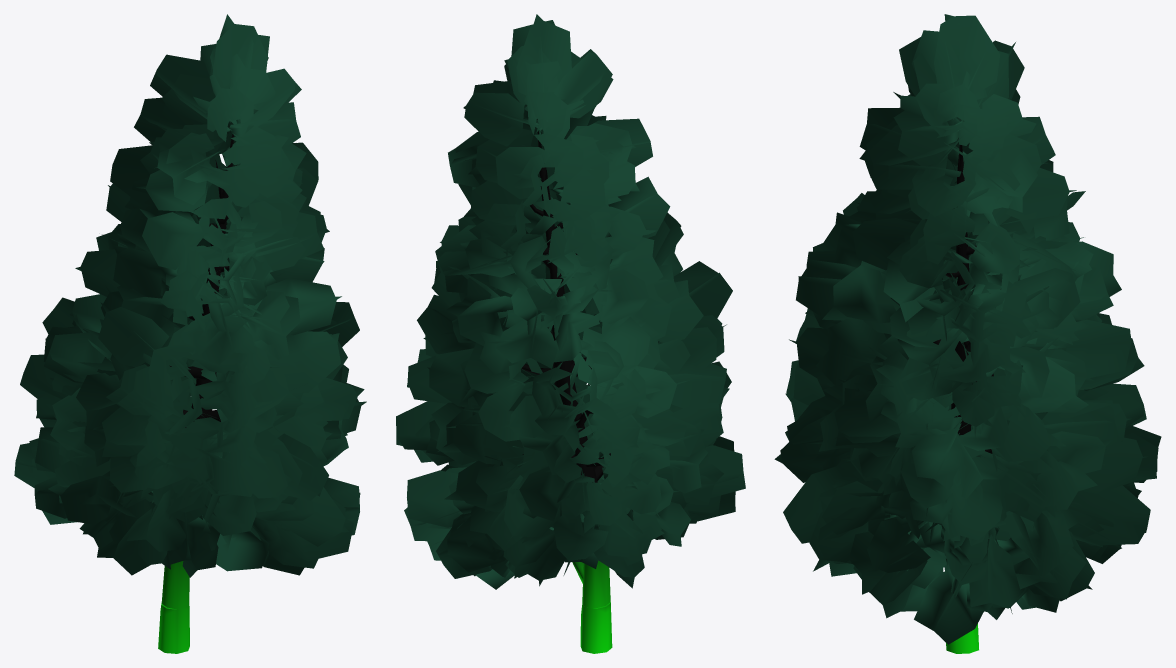
File: Tree_Snakefbx.fbx
The picture shows the model from 3 angles, left to right: view 1: azimuth 30°, elevation 25°; view 2: azimuth 150°, elevation 25°; view 3: azimuth 270°, elevation 25°; orthographic projection. The views are drawn at different scales.
Visible parts, largest first — view 1: SM_FirTree1_LOD1, SM_FirTree1_LOD1.001; view 2: SM_FirTree1_LOD1, SM_FirTree1_LOD1.001; view 3: SM_FirTree1_LOD1, SM_FirTree1_LOD1.001.
Boxes of the visible parts, <box> form: SM_FirTree1_LOD1: <box>14,14,366,609</box>; SM_FirTree1_LOD1.001: <box>158,603,189,653</box>; SM_FirTree1_LOD1: <box>396,14,745,608</box>; SM_FirTree1_LOD1.001: <box>580,602,612,653</box>; SM_FirTree1_LOD1: <box>774,14,1161,644</box>; SM_FirTree1_LOD1.001: <box>946,623,978,653</box>.
Bounding box in the file's own units: 1082 × 2057 × 1089.
